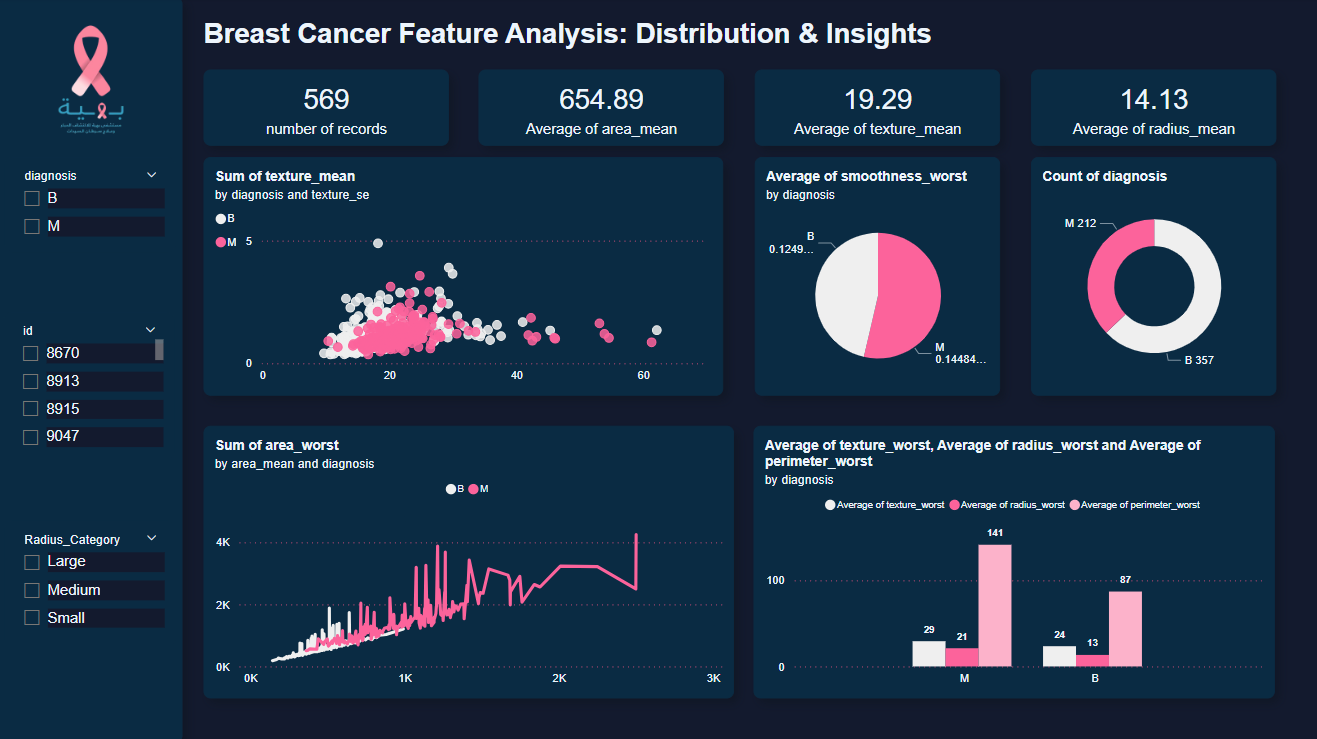

What the dashboard file says about the page in this screenshot:
{"tool":"powerbi","page":{"name":"Dashboard","canvas":[1280,720],"ordinal":0},"visuals":[{"type":"shape","box":[0,0,180,720],"z":0},{"type":"donutChart","title":"Count of diagnosis ","fields":{"Category":["breast-cancer.diagnosis"],"Y":["CountNonNull(breast-cancer.diagnosis)"]},"box":[998.3,155,236.7,230],"z":2000},{"type":"card","fields":{"Values":["Count(breast-cancer.id)"]},"box":[200,70,236.7,73.3],"z":3000},{"type":"textbox","box":[200,20,718.3,33.3],"z":4000},{"type":"scatterChart","fields":{"Series":["breast-cancer.diagnosis"],"X":["Sum(breast-cancer.texture_mean)"],"Y":["breast-cancer.texture_se"]},"box":[200.3,154.4,501.9,230.4],"z":5000},{"type":"slicer","fields":{"Values":["breast-cancer.diagnosis"]},"box":[8.3,155,165,91.7],"z":6000},{"type":"slicer","fields":{"Values":["breast-cancer.id"]},"box":[6.7,304.2,165,143.3],"z":7000},{"type":"card","fields":{"Values":["Avg(breast-cancer.area_mean)"]},"box":[466.1,70,236.7,73.3],"z":8000},{"type":"card","fields":{"Values":["Avg(breast-cancer.texture_mean)"]},"box":[732.2,70,236.7,73.3],"z":9000},{"type":"card","fields":{"Values":["Avg(breast-cancer.radius_mean)"]},"box":[998.3,70,236.7,73.3],"z":10000},{"type":"lineChart","fields":{"Category":["breast-cancer.area_mean"],"Series":["breast-cancer.diagnosis"],"Y":["Sum(breast-cancer.area_worst)"]},"box":[200,413.3,511.7,263.3],"z":11000},{"type":"clusteredColumnChart","fields":{"Category":["breast-cancer.diagnosis"],"Y":["Avg(breast-cancer.texture_worst)","Avg(breast-cancer.radius_worst)","Avg(breast-cancer.perimeter_worst)"]},"box":[731.7,413.3,503.3,263.3],"z":12000},{"type":"pieChart","fields":{"Category":["breast-cancer.diagnosis"],"Y":["Avg(breast-cancer.smoothness_worst)"]},"box":[731.9,155,236.7,230],"z":13000},{"type":"slicer","fields":{"Values":["breast-cancer.Radius_Category"]},"box":[8.3,505,165,121.7],"z":14000},{"type":"image","box":[1.2,0,179.8,161.7],"z":15000}]}

Visuals, with their boxes in screenshot pixels (x1, y1, x2, y2), scaled from the page's 1280x720 canvas onto the 1317x739 screenshot:
shape: BBox(0, 0, 185, 738)
"Count of diagnosis " donutChart: BBox(1027, 159, 1271, 395)
card - Count(breast-cancer.id): BBox(206, 72, 449, 147)
textbox: BBox(206, 21, 945, 55)
scatterChart - breast-cancer.diagnosis x Sum(breast-cancer.texture_mean): BBox(206, 158, 722, 395)
slicer - breast-cancer.diagnosis: BBox(9, 159, 178, 253)
slicer - breast-cancer.id: BBox(7, 312, 177, 459)
card - Avg(breast-cancer.area_mean): BBox(480, 72, 723, 147)
card - Avg(breast-cancer.texture_mean): BBox(753, 72, 997, 147)
card - Avg(breast-cancer.radius_mean): BBox(1027, 72, 1271, 147)
lineChart - breast-cancer.area_mean x breast-cancer.diagnosis: BBox(206, 424, 732, 694)
clusteredColumnChart - breast-cancer.diagnosis x Avg(breast-cancer.texture_worst): BBox(753, 424, 1271, 694)
pieChart - breast-cancer.diagnosis x Avg(breast-cancer.smoothness_worst): BBox(753, 159, 997, 395)
slicer - breast-cancer.Radius_Category: BBox(9, 518, 178, 643)
image: BBox(1, 0, 186, 166)
